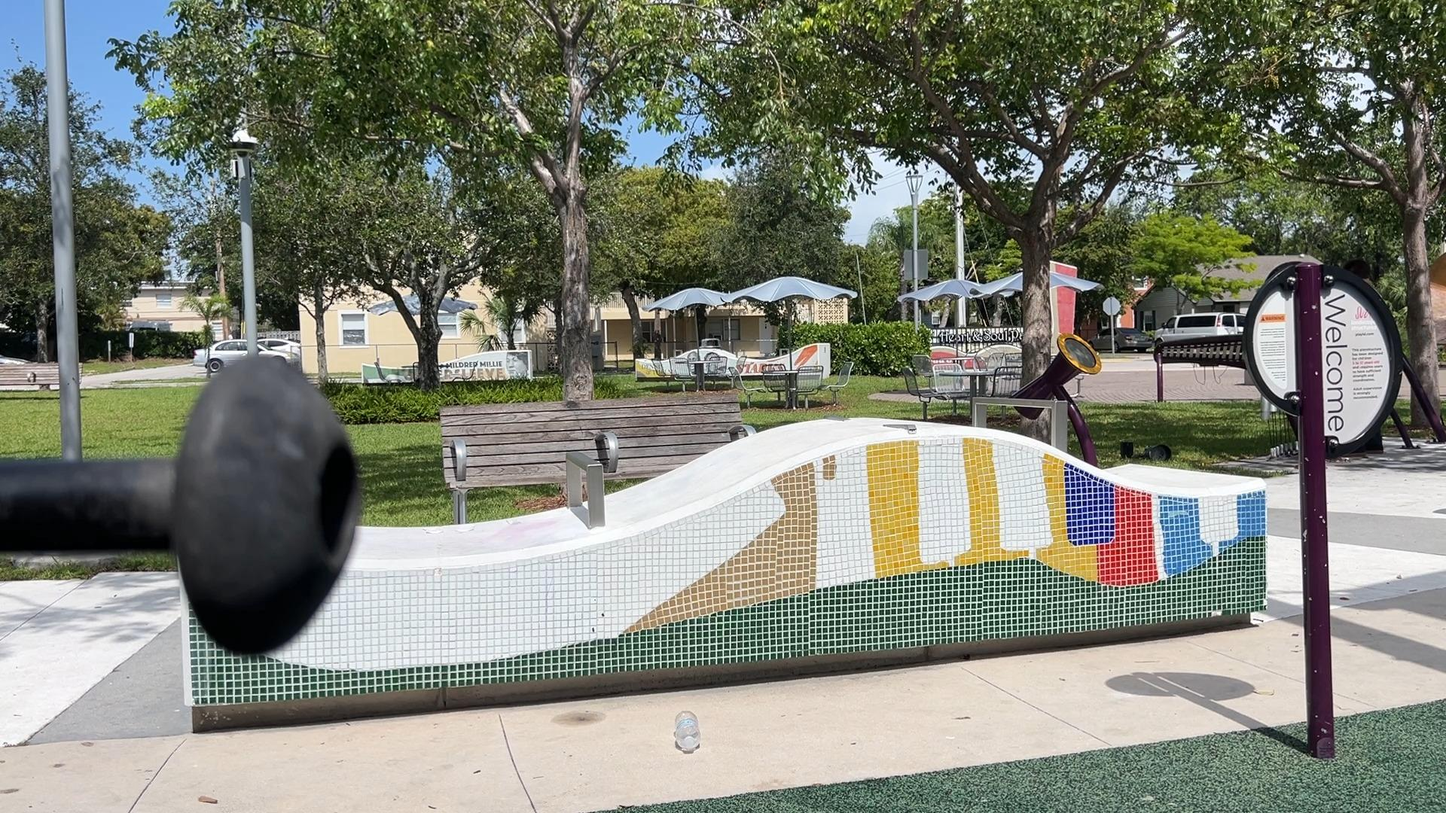Trash: (653, 693, 726, 775)
